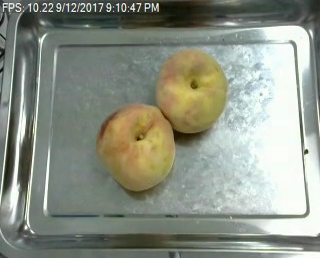Peach: (95, 102, 175, 191), (155, 47, 227, 133)
